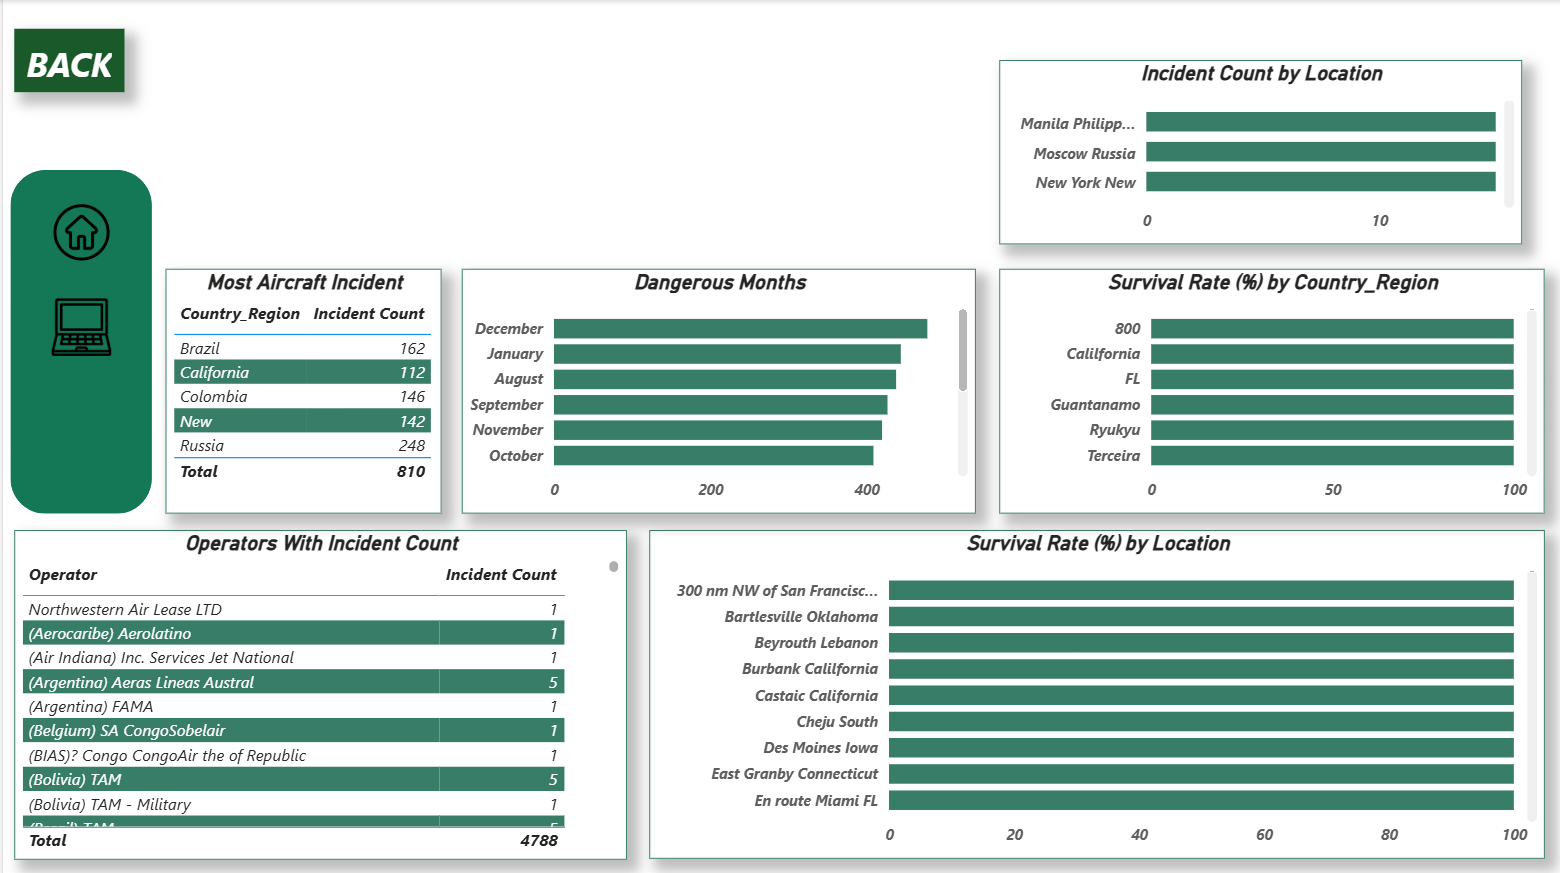

The page's visual inventory and layout, read from the dashboard file:
{"tool":"powerbi","page":{"name":"Dashboard 2","canvas":[1280,720],"ordinal":1},"visuals":[{"type":"barChart","fields":{"Category":["Aircraft_Incidents.Location"],"Y":["Aircraft_Incidents.Survival Rate (%)"]},"box":[529.5,434.3,734.4,269.8],"z":0},{"type":"barChart","title":"Dangerous Months","fields":{"Category":["Aircraft_Incidents.Month"],"Y":["Aircraft_Incidents.Incident Count"]},"box":[376.6,220.7,421.3,200.5],"z":1000},{"type":"barChart","fields":{"Category":["Aircraft_Incidents.Country_Region"],"Y":["Aircraft_Incidents.Survival Rate (%)"]},"box":[816.6,220.7,447.3,200.5],"z":2000},{"type":"tableEx","title":"Operators With Incident Count","fields":{"Values":["Aircraft_Incidents.Operator","Aircraft_Incidents.Incident Count"]},"box":[31.7,434.3,479,269.8],"z":3000},{"type":"barChart","fields":{"Category":["Aircraft_Incidents.Location"],"Y":["Aircraft_Incidents.Incident Count"]},"box":[816.6,49.1,428.5,151.5],"z":4000},{"type":"tableEx","title":"Most Aircraft Incident","fields":{"Values":["Aircraft_Incidents.Country_Region","Aircraft_Incidents.Incident Count"]},"box":[133.2,220.4,226.5,200.9],"z":5000},{"type":"shape","box":[0,0,122,421.3],"z":6000},{"type":"actionButton","title":"NEXT","box":[9.2,49.2,104.5,58.4],"z":7000},{"type":"shape","box":[6.1,114.8,104.5,34.8],"z":8000}]}

Visuals, with their boxes in screenshot pixels (x1, y1, x2, y2), scaled from the page's 1280x720 canvas onto the 1560x873 screenshot:
barChart - Aircraft_Incidents.Location x Aircraft_Incidents.Survival Rate (%): x1=645 y1=527 x2=1540 y2=854
"Dangerous Months" barChart: x1=459 y1=268 x2=972 y2=511
barChart - Aircraft_Incidents.Country_Region x Aircraft_Incidents.Survival Rate (%): x1=995 y1=268 x2=1540 y2=511
"Operators With Incident Count" tableEx: x1=39 y1=527 x2=622 y2=854
barChart - Aircraft_Incidents.Location x Aircraft_Incidents.Incident Count: x1=995 y1=60 x2=1517 y2=243
"Most Aircraft Incident" tableEx: x1=162 y1=267 x2=438 y2=511
shape: x1=0 y1=0 x2=149 y2=511
"NEXT" actionButton: x1=11 y1=60 x2=139 y2=130
shape: x1=7 y1=139 x2=135 y2=181
